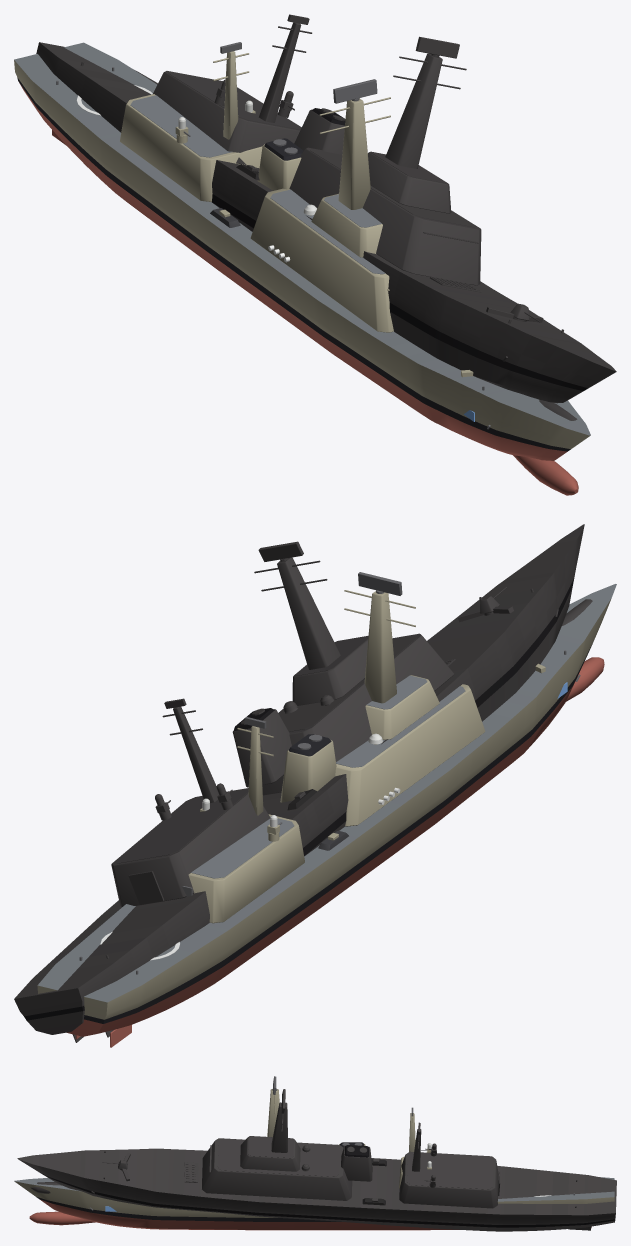
Rendered from asFrigate__type_054a.glb.
3 renders of one model, top to bottom at view 1: azimuth 30°, elevation 25°; view 2: azimuth 150°, elevation 25°; view 3: azimuth 270°, elevation 25°, orthographic. The views are drawn at different scales.
Visible parts, largest first — view 1: Hull_Mesh, Wreck, Radar_Mesh; view 2: Hull_Mesh, Wreck; view 3: Wreck, Hull_Mesh.
Boxes of the visible parts, <box> form: Hull_Mesh: <box>14,42,590,495</box>; Wreck: <box>36,14,616,420</box>; Radar_Mesh: <box>333,79,377,103</box>; Hull_Mesh: <box>37,584,616,1047</box>; Wreck: <box>14,524,592,1042</box>; Wreck: <box>17,1089,616,1231</box>; Hull_Mesh: <box>14,1089,614,1230</box>.
Size of what is drawn, in the model's own units: 25.58 by 40.24 by 140.
